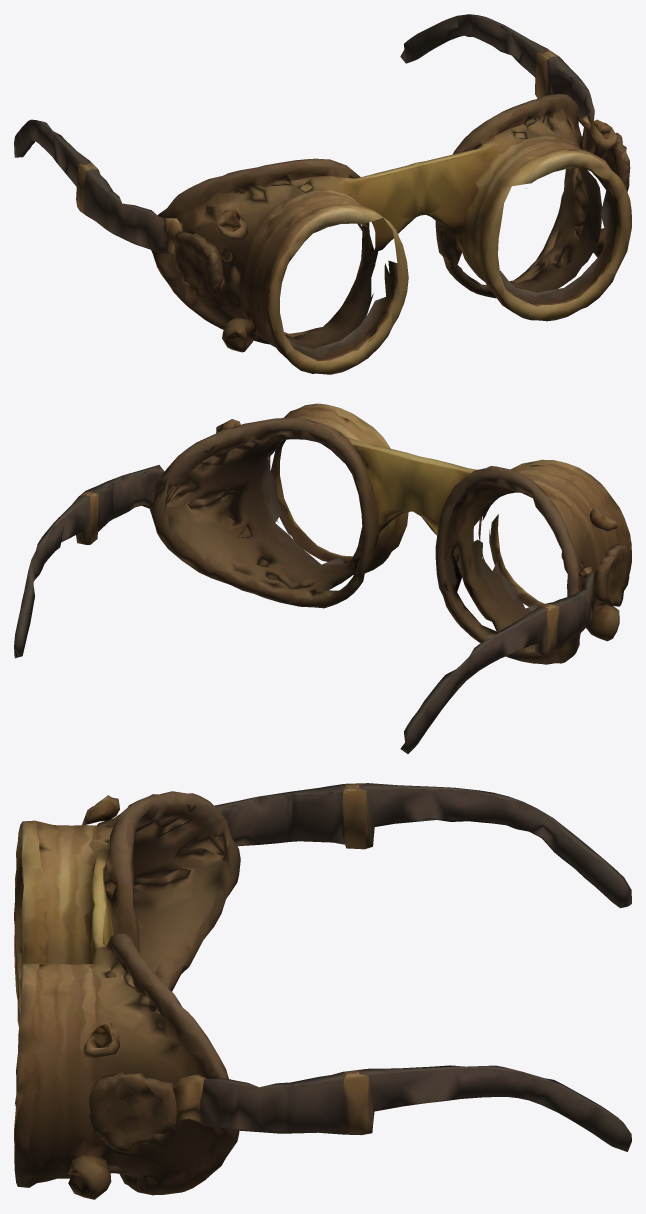
Rendered from head_accessory__0_103-.glb.
3 views of the same model, one above another, from view 1: azimuth 30°, elevation 25°; view 2: azimuth 150°, elevation 25°; view 3: azimuth 270°, elevation 25° (orthographic). The views are drawn at different scales.
Parts seen in each view (by area): view 1: geometry_0_103; view 2: geometry_0_103; view 3: geometry_0_103.
Part boxes in pixels (<box>): geometry_0_103: <box>14,14,631,374</box>; geometry_0_103: <box>14,403,631,753</box>; geometry_0_103: <box>14,783,631,1199</box>.
Bounding box in the file's own units: 0.7707 × 0.2895 × 0.6806.
Materials: 1 (1 with a texture image).
